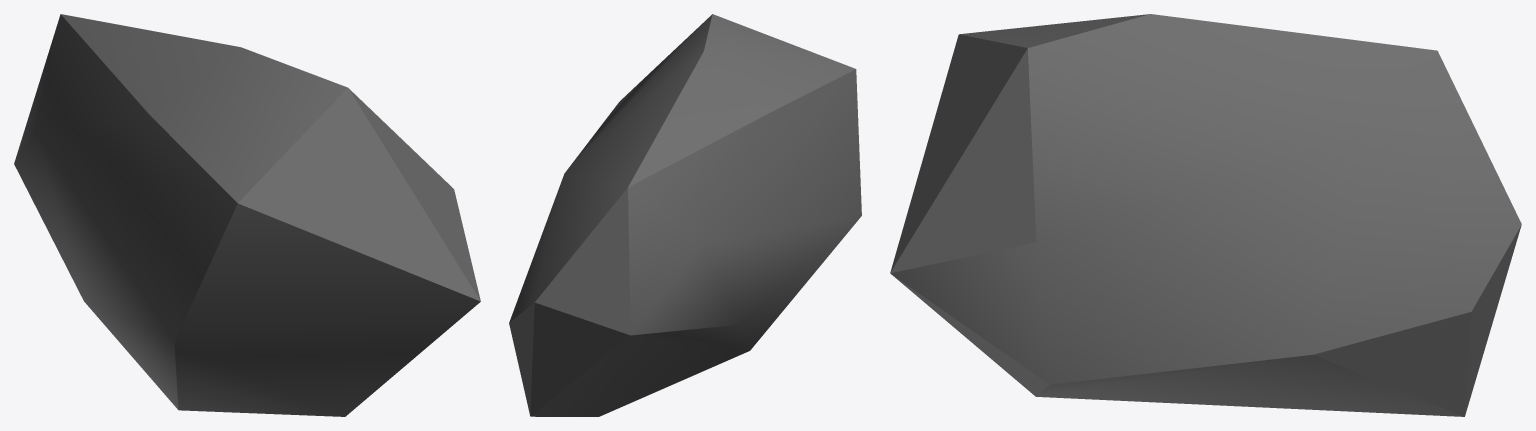
The model's file is rock_big_2.fbx.
3 renders of one model, left to right at view 1: azimuth 30°, elevation 25°; view 2: azimuth 150°, elevation 25°; view 3: azimuth 270°, elevation 25°, orthographic. The views are drawn at different scales.
Visible parts, largest first — view 1: rock_big_2; view 2: rock_big_2; view 3: rock_big_2.
Boxes of the visible parts, x1,y1,x2,y2 form: rock_big_2: (14,14,480,416); rock_big_2: (509,14,861,416); rock_big_2: (890,14,1521,416).
Bounding box in the file's own units: 56.64 × 65.7 × 97.36.
